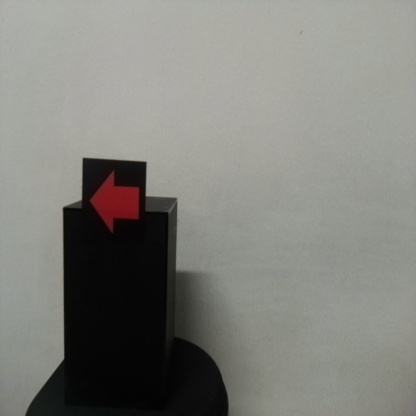id_4: (83, 158, 146, 251)
